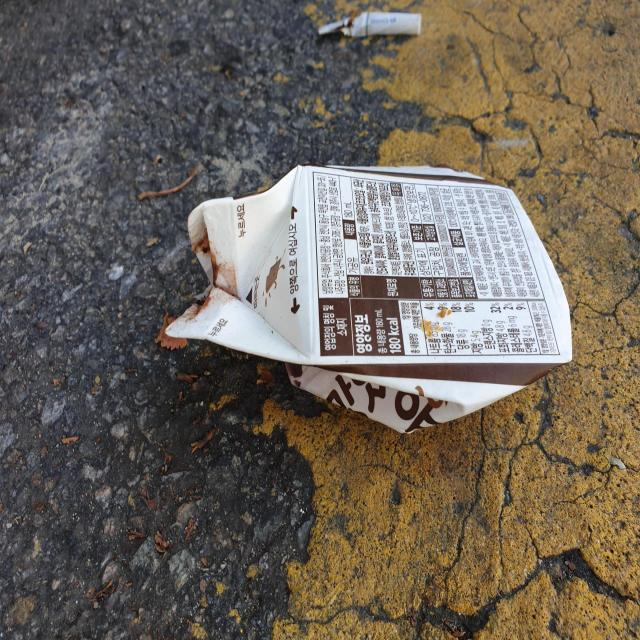paperpack: (165, 165, 573, 433)
